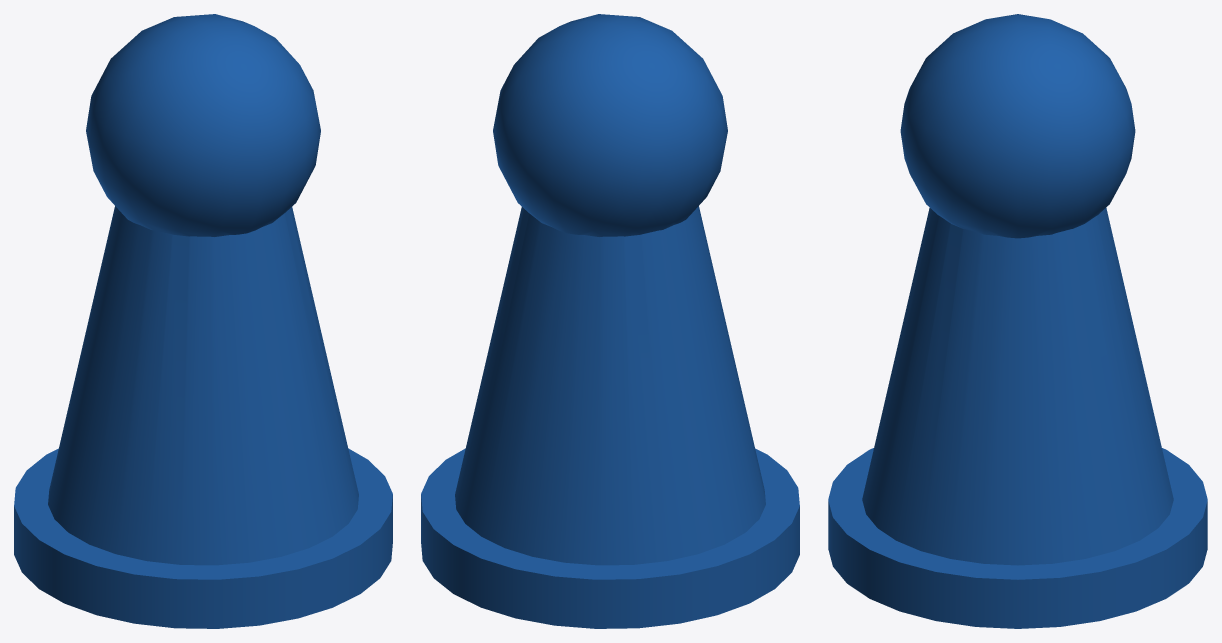
File: ruhm_marker_blau.glb
The picture shows the model from 3 angles, left to right: view 1: azimuth 30°, elevation 25°; view 2: azimuth 150°, elevation 25°; view 3: azimuth 270°, elevation 25°; orthographic projection.
Parts seen in each view (by area): view 1: ruhm_marker_blau; view 2: ruhm_marker_blau; view 3: ruhm_marker_blau.
Boxes of the visible parts, x1,y1,x2,y2 form: ruhm_marker_blau: (14,14,392,628); ruhm_marker_blau: (421,14,799,628); ruhm_marker_blau: (828,14,1207,628).
Size of the model in its own units: 8.4 by 12.8 by 8.4.
